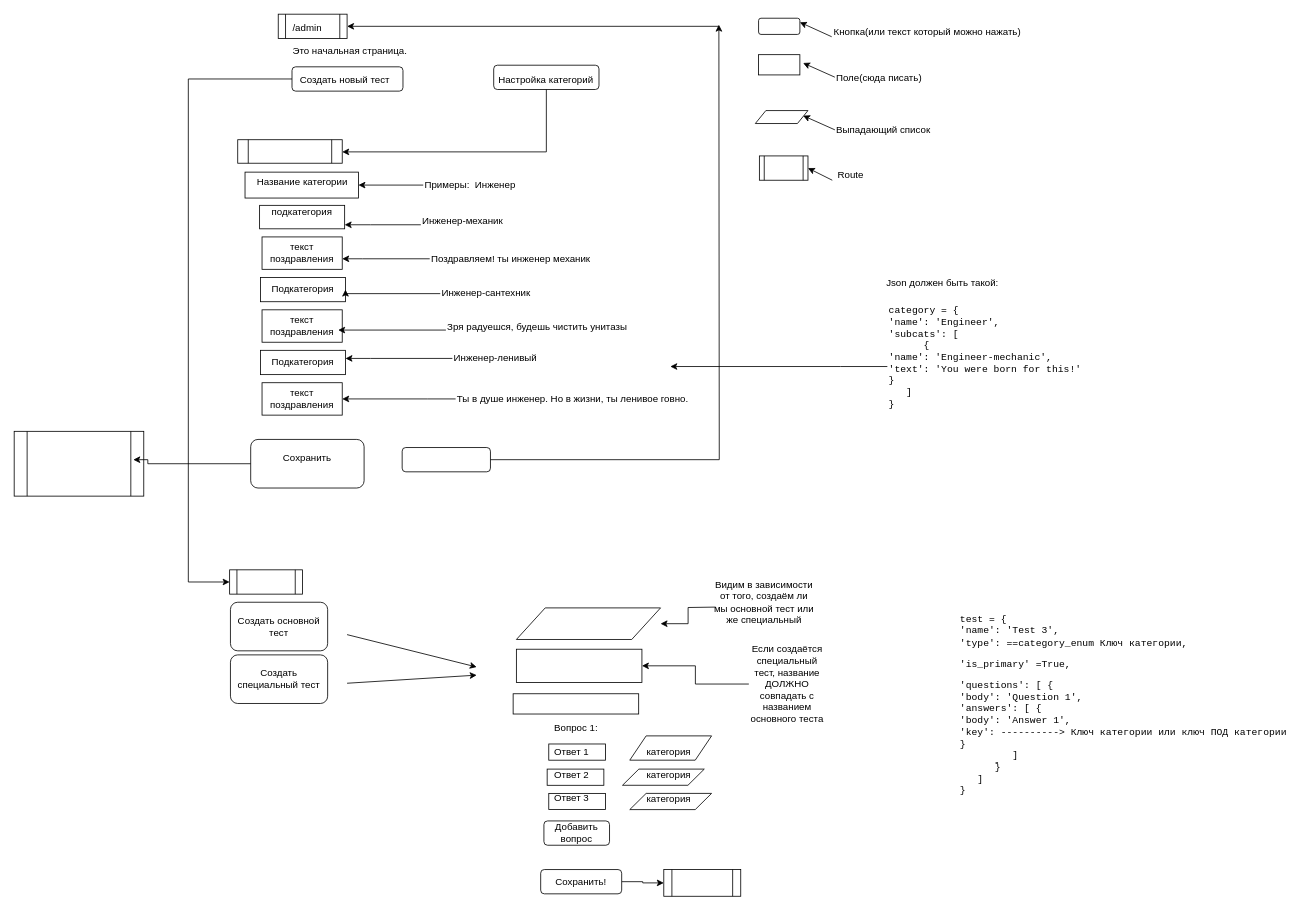
Image size: 1301x910. Some labels were removed from this diagram. Each missing label, with the centre of its shape:
"/categories/new" goes at [289,151].
"/save-new-category" goes at [78,463].
"/test/new" goes at [266,581].
"test/save" goes at [702,882].
"Введите кол-во вопросов" goes at [575,703].
"Выберите категорию:" goes at [588,623].
"Главное меню" goes at [445,459].
"Название вашего теста" goes at [579,665].
